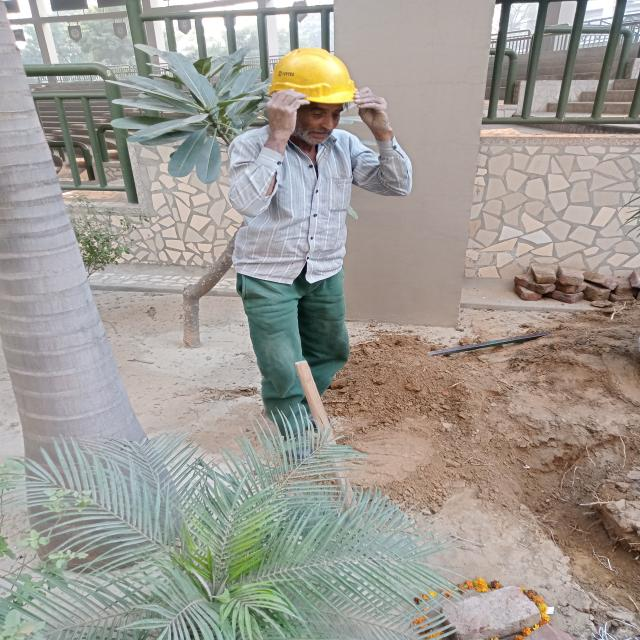no jacket: (222, 44, 417, 444)
